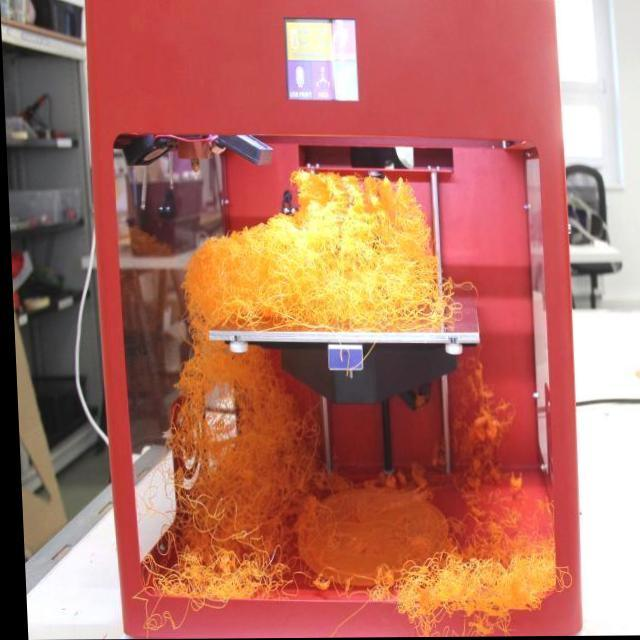spaghetti: (179, 160, 459, 334), (180, 337, 297, 603), (383, 549, 561, 620)
